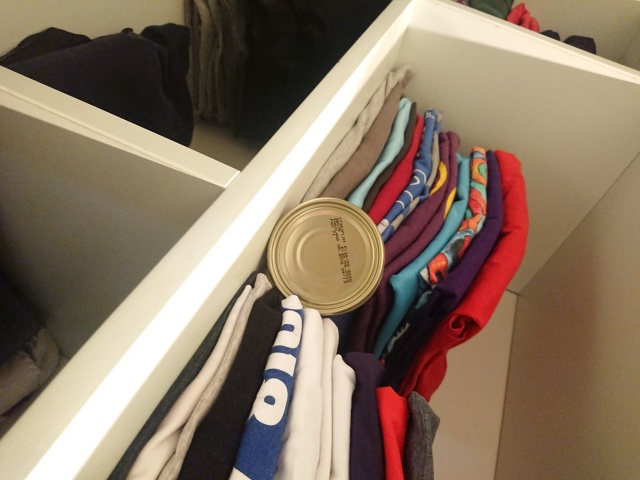Giana Tuna Salad Mexico 185g: (264, 195, 386, 318)
